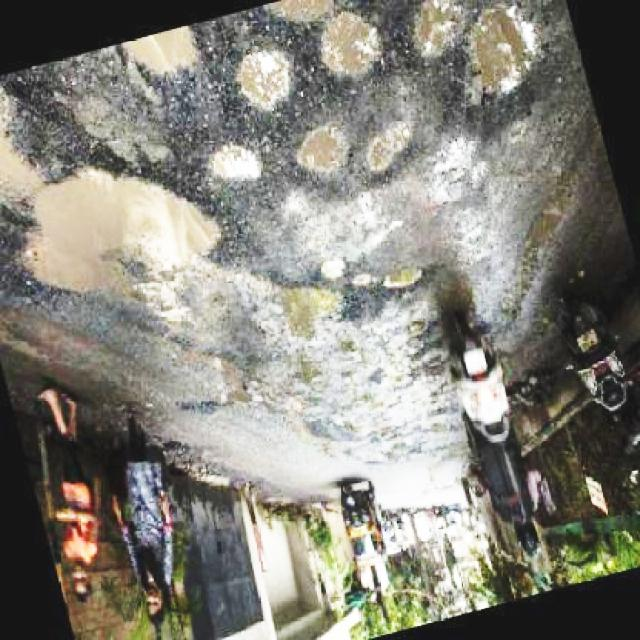pothole: (0, 88, 226, 320), (264, 0, 384, 86), (258, 248, 352, 344), (469, 0, 542, 108), (101, 31, 216, 89), (179, 343, 266, 419), (402, 0, 480, 65), (204, 140, 284, 200), (234, 44, 301, 114), (360, 118, 429, 171), (354, 255, 438, 297), (296, 122, 350, 183), (518, 189, 531, 200)
